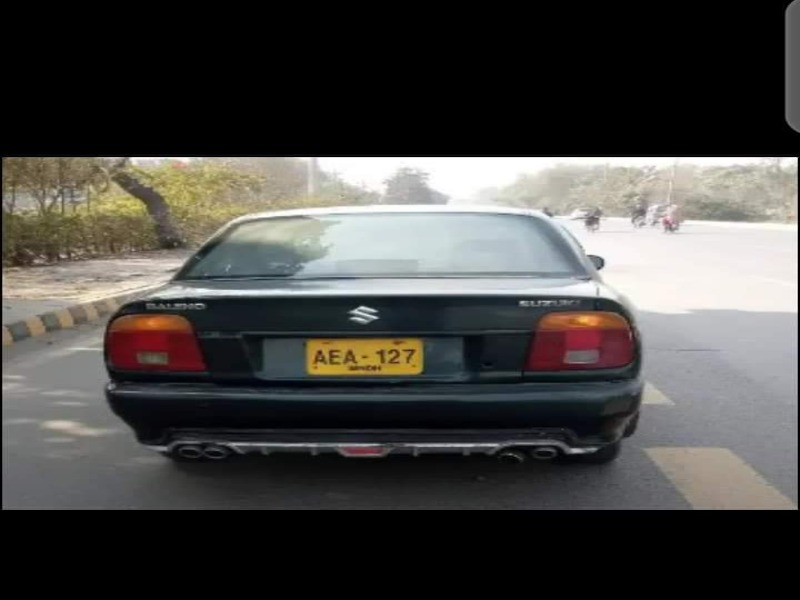License Plate: (305, 334, 427, 382)
